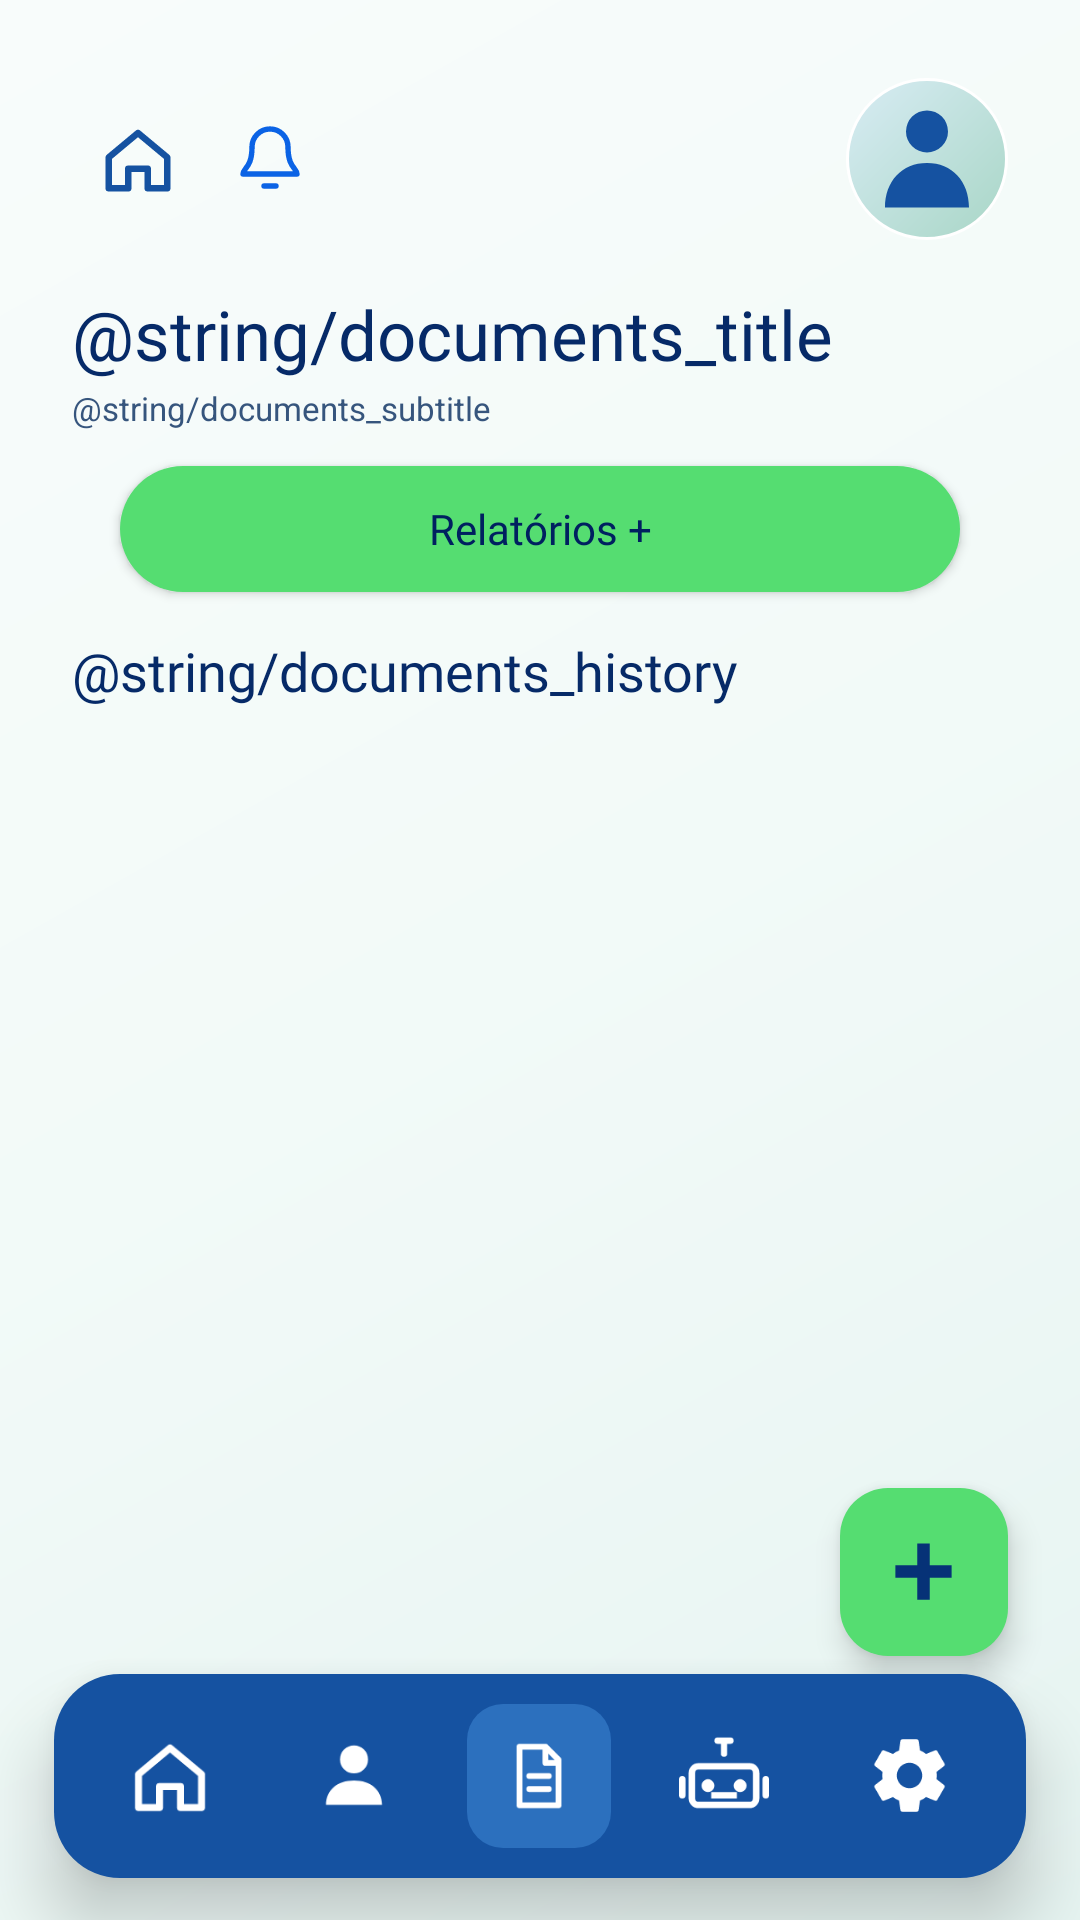

Named icons in this screenshot (1080 x 1920) and their centers, point (x, y):
Adicionar relatório: point (924, 1572)
Assistente: point (724, 1773)
Configurações: point (909, 1775)
Documentos: point (539, 1776)
Início: point (138, 160), point (170, 1778)
Notificações: point (270, 157)
